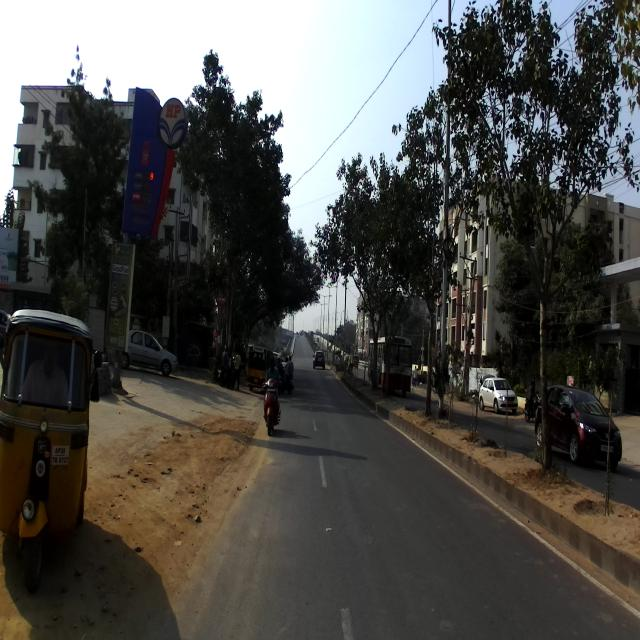auto ahead at: (1, 307, 90, 585)
car ahead at: (126, 325, 180, 377)
